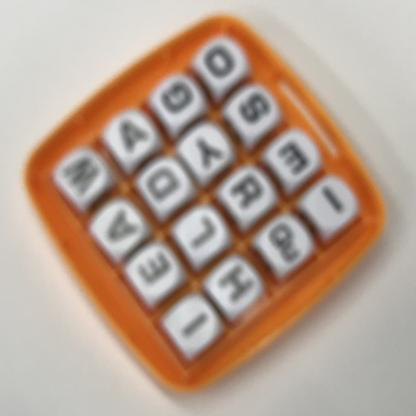a: (107, 109, 156, 160), (98, 204, 148, 250)
d: (145, 162, 193, 211)
e: (135, 247, 180, 295), (272, 137, 317, 183)
g: (152, 75, 199, 119)
h: (214, 261, 264, 310)
i: (309, 176, 360, 225), (174, 305, 219, 348)
l: (174, 211, 227, 255)
o: (199, 37, 241, 84)
q: (259, 221, 313, 272)
r: (223, 174, 270, 217)
s: (232, 90, 276, 130)
w: (64, 151, 104, 198)
y: (190, 130, 224, 178)
